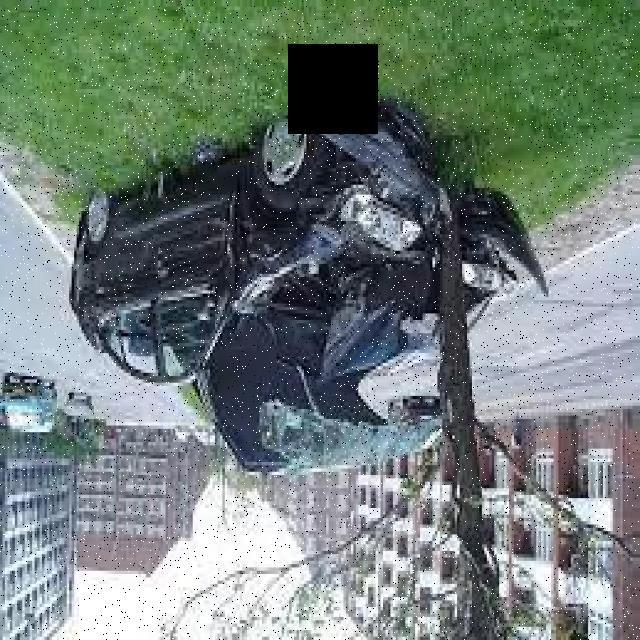severe: (64, 92, 551, 485)
